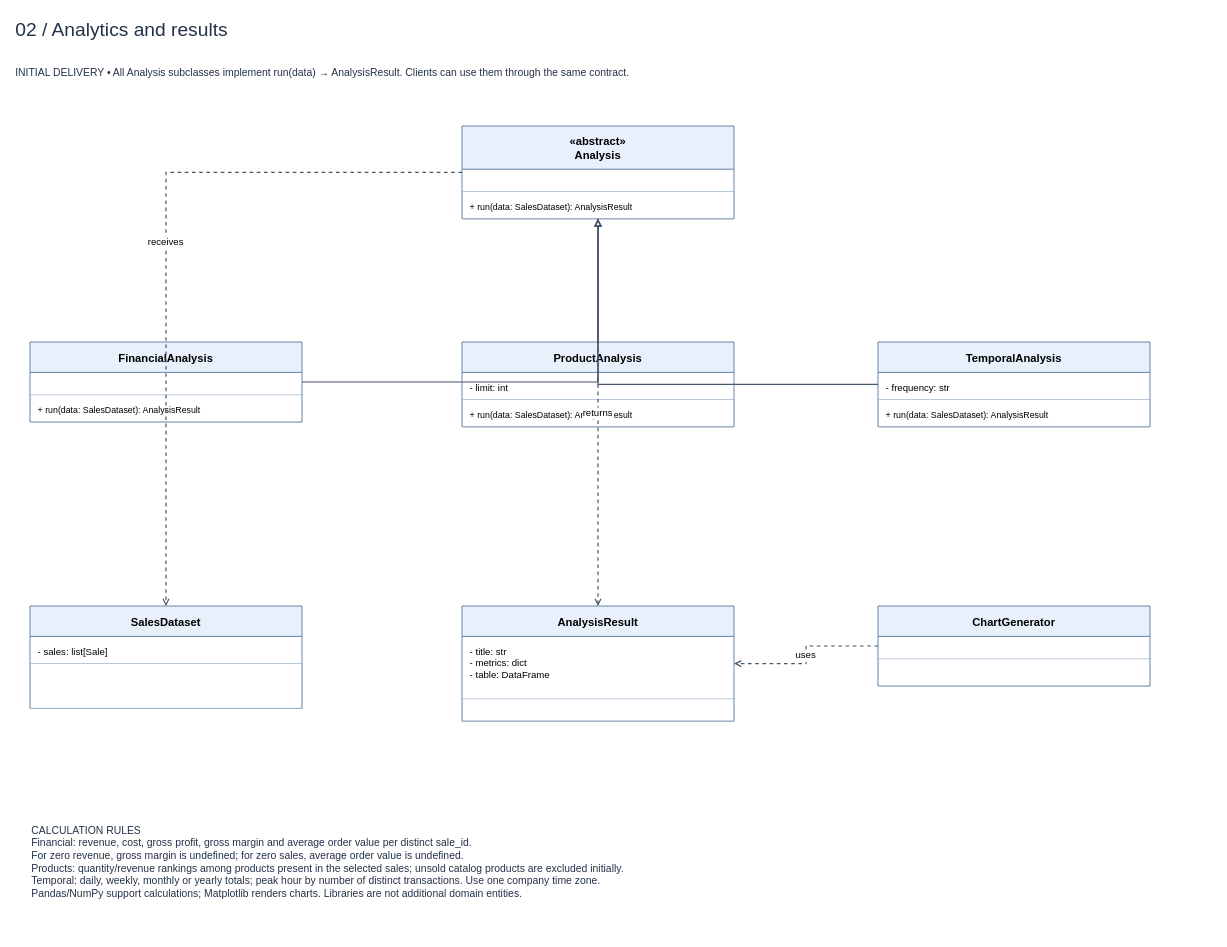
The diagram is 1227 pixels wide and 947 high, and some of its shapes have lost their labels. The shapes that lost their labels are listed below. From the top down, each one's centre as x and y in pixels, then its label:
At [165,685]: "+ filter_period(start, end): SalesDataset + to_dataframe(): DataFrame".
At [1013,672]: "+ generate(result, kind): Figure".
